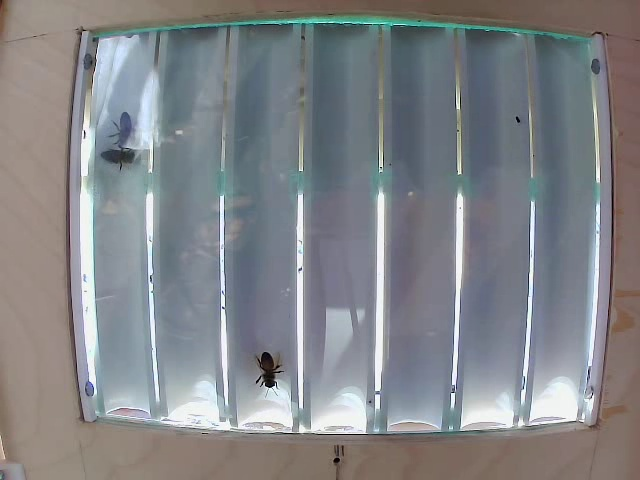bee: (250, 346, 294, 395), (107, 140, 140, 171)
